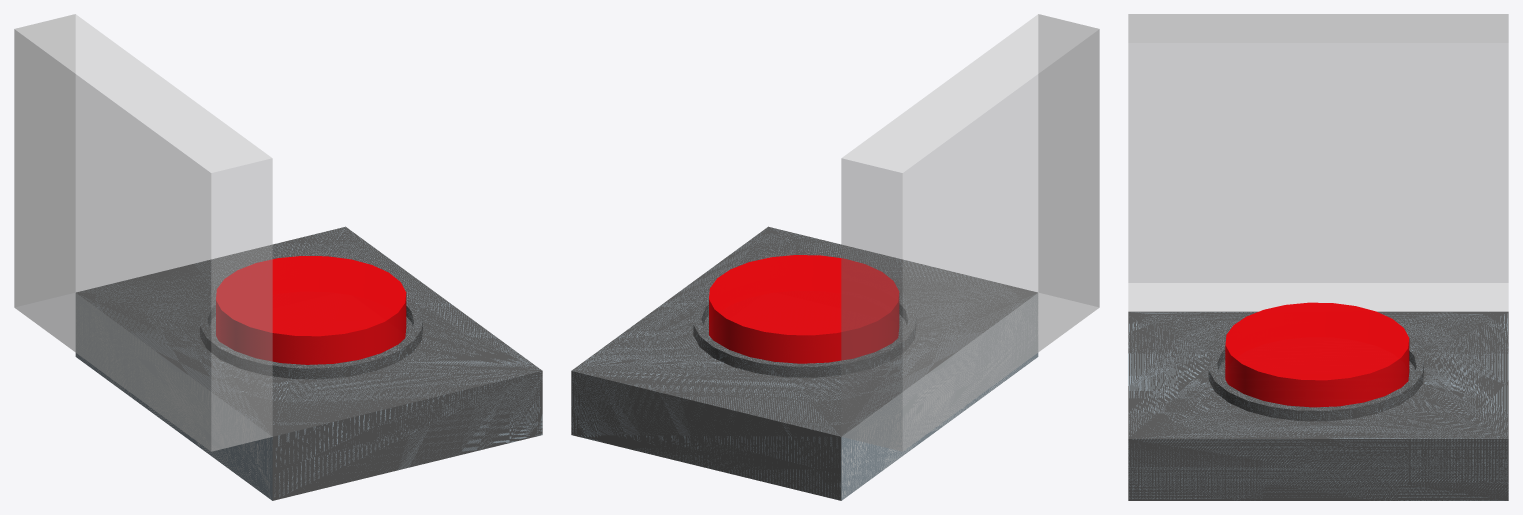
Rendered from Button 1.fbx.
3 views of the same model, side by side, from view 1: azimuth 30°, elevation 25°; view 2: azimuth 150°, elevation 25°; view 3: azimuth 270°, elevation 25° (orthographic). The views are drawn at different scales.
Parts seen in each view (by area): view 1: Group1, Model; view 2: Group1, Model; view 3: Group1, Model.
Boxes of the visible parts, x1=… form: Group1: x1=14, y1=14, x2=542, y2=500; Model: x1=216, y1=256, x2=406, y2=364; Group1: x1=571, y1=14, x2=1099, y2=500; Model: x1=709, y1=255, x2=899, y2=363; Group1: x1=1128, y1=14, x2=1508, y2=500; Model: x1=1225, y1=302, x2=1409, y2=407.
Bounding box in the file's own units: 3185 × 3146 × 3278.
